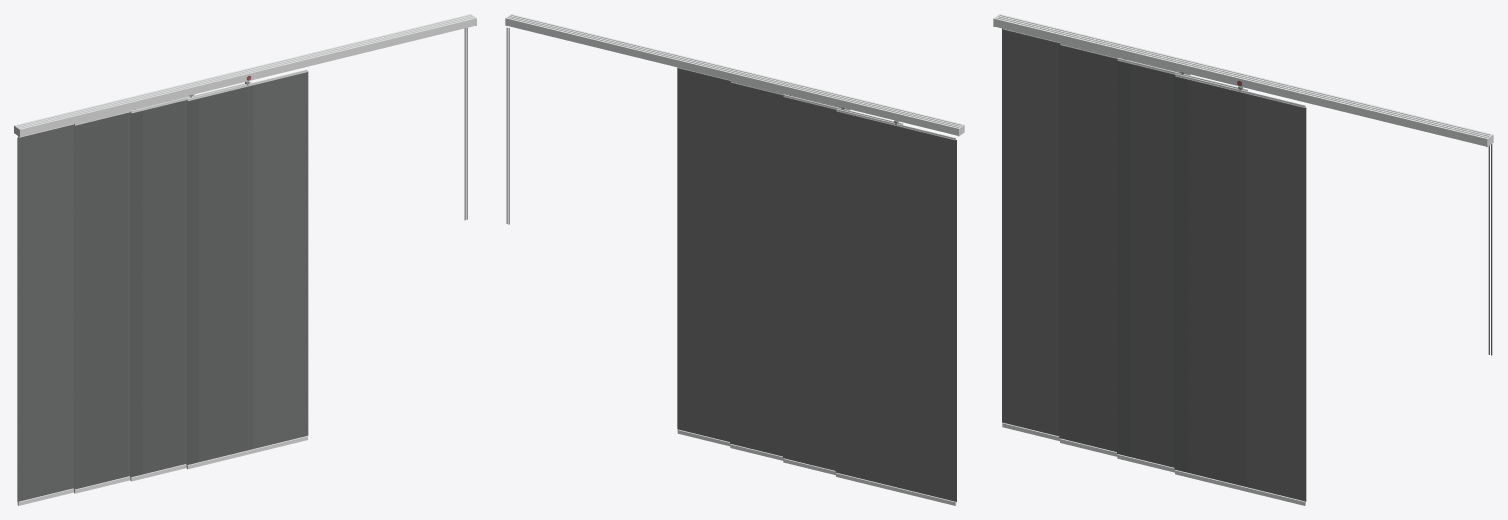
Rendered from after-panel-white-black-partial.glb.
3 views of the same model, side by side, from view 1: azimuth 30°, elevation 25°; view 2: azimuth 150°, elevation 25°; view 3: azimuth 330°, elevation 25° (orthographic). The views are drawn at different scales.
Parts seen in each view (by area): view 1: PANEL_TELO_1, PANEL_OVERLAP_DENSITY_1, PANEL_TELO_4, PANEL_OVERLAP_DENSITY_5, PANEL_OVERLAP_DENSITY_3, PANEL_OVERLAP_DENSITY_4, PANEL_OVERLAP_DENSITY_2, PANEL_RAIL_PROFILE_WAY_4, PANEL_RAIL_PROFILE_WAY_2, PANEL_RAIL_PROFILE_WAY_1, PANEL_RAIL_PROFILE_WAY_3, PANEL_TELO_2 (+2 smaller); view 2: PANEL_TELO_1, PANEL_TELO_2, PANEL_TELO_3, PANEL_TELO_4, PANEL_RAIL_PROFILE_WAY_1, PANEL_RAIL_PROFILE_WAY_3, PANEL_RAIL_PROFILE_WAY_4, PANEL_RAIL_PROFILE_WAY_2, PANEL_BOTTOM_WEIGHT_1; view 3: PANEL_TELO_4, PANEL_OVERLAP_DENSITY_5, PANEL_OVERLAP_DENSITY_1, PANEL_TELO_1, PANEL_OVERLAP_DENSITY_3, PANEL_OVERLAP_DENSITY_4, PANEL_OVERLAP_DENSITY_2, PANEL_RAIL_PROFILE_WAY_4, PANEL_RAIL_PROFILE_WAY_2, PANEL_RAIL_PROFILE_WAY_1, PANEL_RAIL_PROFILE_WAY_3, PANEL_BOTTOM_WEIGHT_4.
Boxes of the visible parts, x1,y1,x2,y2 form: PANEL_TELO_1: [17, 124, 74, 501]; PANEL_OVERLAP_DENSITY_1: [73, 112, 128, 489]; PANEL_TELO_4: [253, 71, 308, 448]; PANEL_OVERLAP_DENSITY_5: [199, 85, 253, 462]; PANEL_OVERLAP_DENSITY_3: [142, 100, 184, 474]; PANEL_OVERLAP_DENSITY_4: [186, 98, 198, 465]; PANEL_OVERLAP_DENSITY_2: [130, 111, 142, 477]; PANEL_RAIL_PROFILE_WAY_4: [20, 18, 475, 136]; PANEL_RAIL_PROFILE_WAY_2: [17, 15, 472, 127]; PANEL_RAIL_PROFILE_WAY_1: [15, 14, 470, 126]; PANEL_RAIL_PROFILE_WAY_3: [19, 16, 473, 128]; PANEL_TELO_2: [128, 112, 130, 476]; PANEL_TELO_1: [835, 111, 956, 501]; PANEL_TELO_2: [783, 96, 836, 470]; PANEL_TELO_3: [730, 82, 783, 456]; PANEL_TELO_4: [677, 67, 730, 441]; PANEL_RAIL_PROFILE_WAY_1: [506, 17, 958, 135]; PANEL_RAIL_PROFILE_WAY_3: [509, 15, 961, 126]; PANEL_RAIL_PROFILE_WAY_4: [511, 14, 963, 125]; PANEL_RAIL_PROFILE_WAY_2: [508, 16, 959, 127]; PANEL_BOTTOM_WEIGHT_1: [836, 472, 956, 505]; PANEL_TELO_4: [1247, 94, 1306, 501]; PANEL_OVERLAP_DENSITY_5: [1188, 79, 1246, 486]; PANEL_OVERLAP_DENSITY_1: [1059, 44, 1117, 451]; PANEL_TELO_1: [1002, 28, 1060, 436]; PANEL_OVERLAP_DENSITY_3: [1130, 64, 1175, 467]; PANEL_OVERLAP_DENSITY_4: [1174, 75, 1187, 472]; PANEL_OVERLAP_DENSITY_2: [1117, 60, 1130, 456]; PANEL_RAIL_PROFILE_WAY_4: [994, 18, 1486, 146]; PANEL_RAIL_PROFILE_WAY_2: [998, 15, 1490, 136]; PANEL_RAIL_PROFILE_WAY_1: [999, 14, 1491, 135]; PANEL_RAIL_PROFILE_WAY_3: [996, 17, 1488, 137]; PANEL_BOTTOM_WEIGHT_4: [1174, 470, 1305, 505].
Size of the model in its own units: 3.02 by 2.4 by 0.088.
10 materials, 7 textured.
